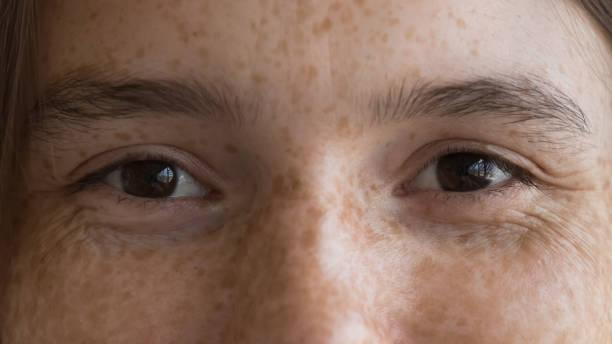Dry-Skin: (210, 10, 419, 331)
